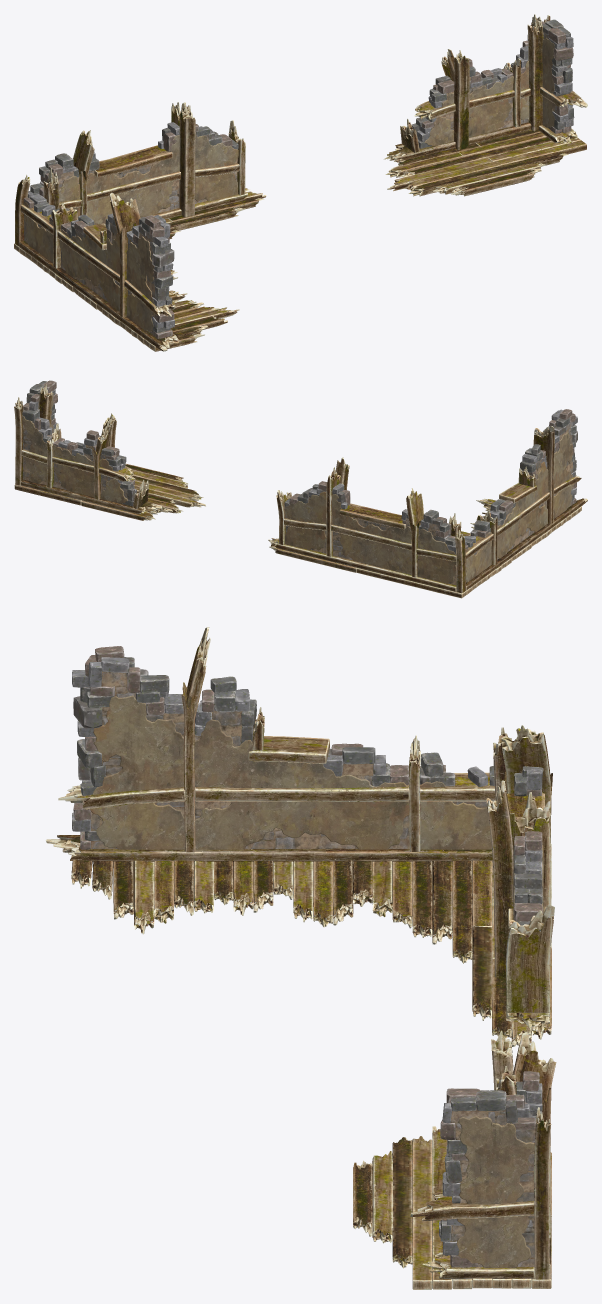
The picture shows the model from 3 angles, top to bottom: view 1: azimuth 30°, elevation 25°; view 2: azimuth 150°, elevation 25°; view 3: azimuth 270°, elevation 25°; orthographic projection. The views are drawn at different scales.
Parts seen in each view (by area): view 1: SM_House_04_Dmg_LOD0; view 2: SM_House_04_Dmg_LOD0; view 3: SM_House_04_Dmg_LOD0.
Part boxes in pixels (<box>): SM_House_04_Dmg_LOD0: <box>14,14,587,351</box>; SM_House_04_Dmg_LOD0: <box>14,380,587,598</box>; SM_House_04_Dmg_LOD0: <box>45,627,556,1289</box>.
Size of the model in its own units: 13.18 by 3.1 by 6.42.
Materials: 4 (4 with a texture image).
